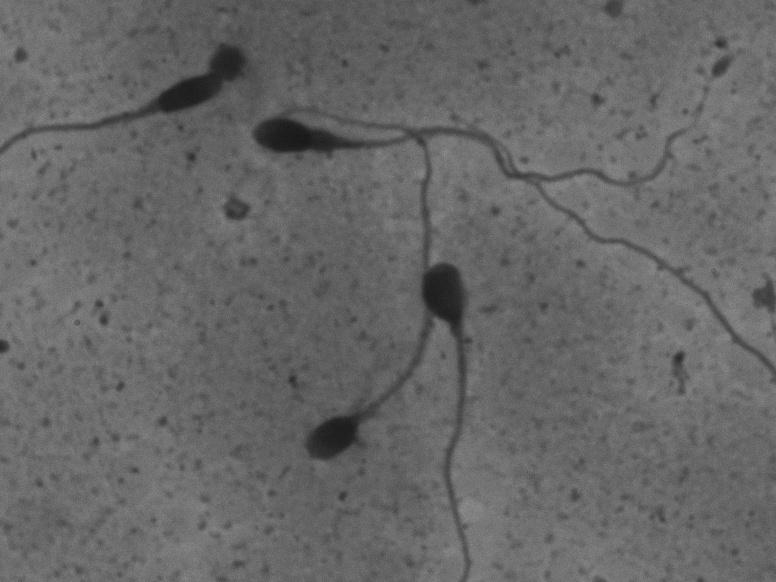Abnormal: (246, 33, 721, 200), (415, 255, 504, 573), (12, 47, 219, 179)
Normal: (280, 101, 438, 472)
